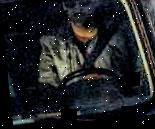seatbelt: (86, 19, 124, 64)
